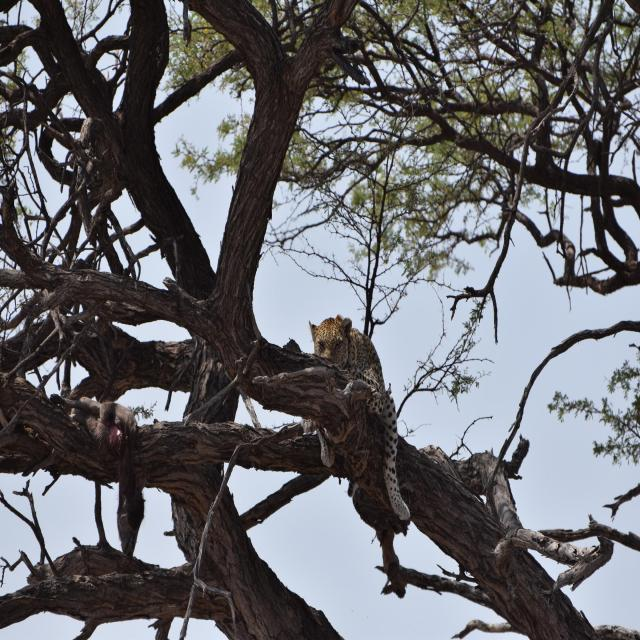Leopard: (267, 267, 402, 577)
